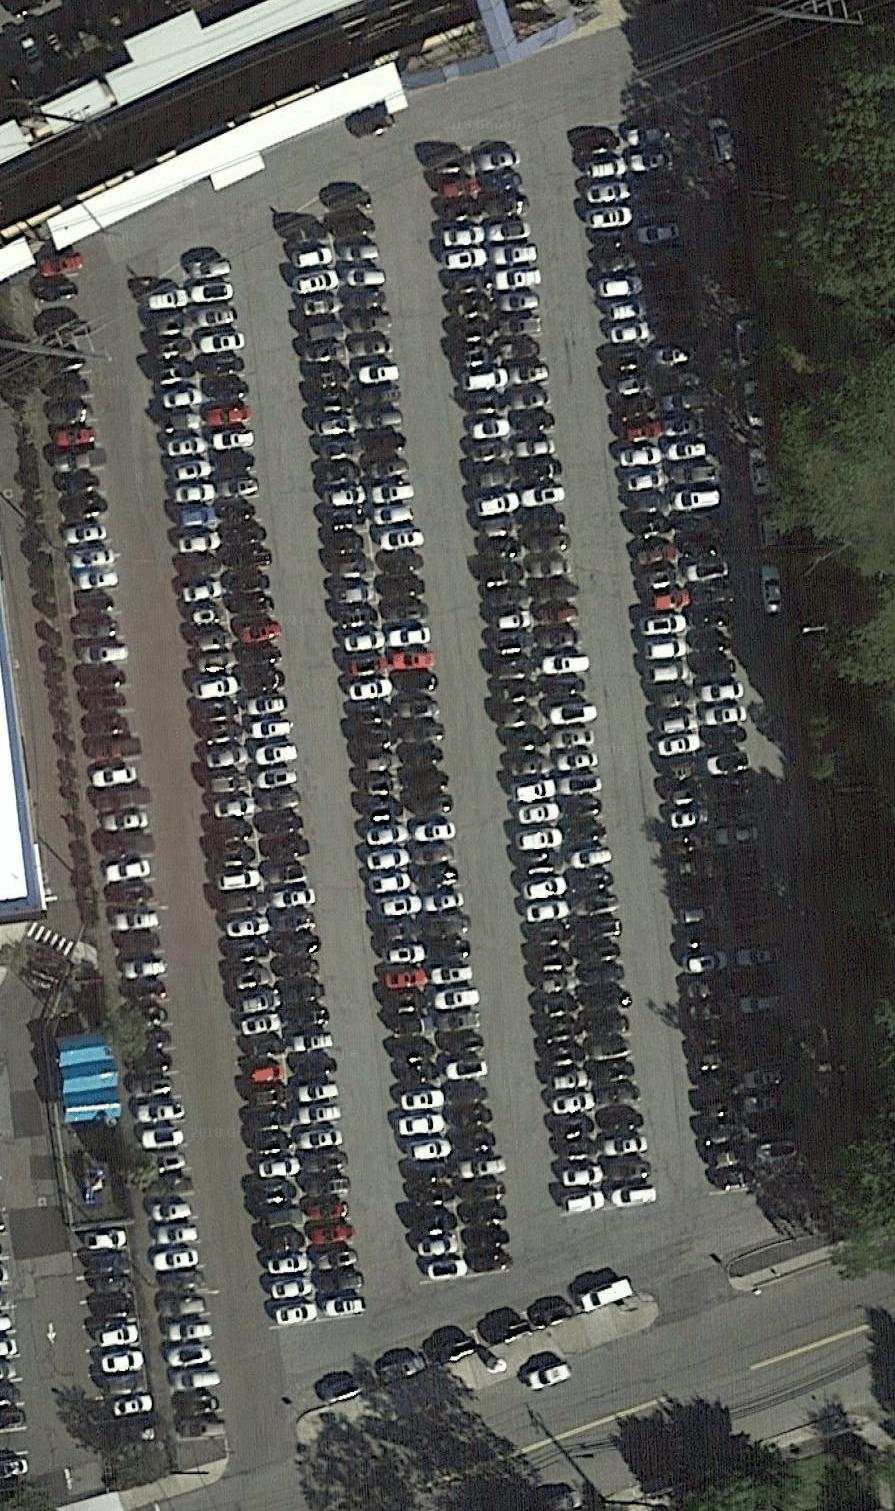parkingspot: (326, 206, 518, 1279), (37, 368, 229, 1441), (181, 257, 369, 1325), (472, 147, 660, 1212), (619, 123, 804, 1189), (573, 131, 758, 1197), (283, 220, 467, 1286), (143, 286, 320, 1332), (433, 162, 607, 1218), (313, 1276, 640, 1409), (67, 1223, 157, 1450), (0, 1202, 32, 1493)
